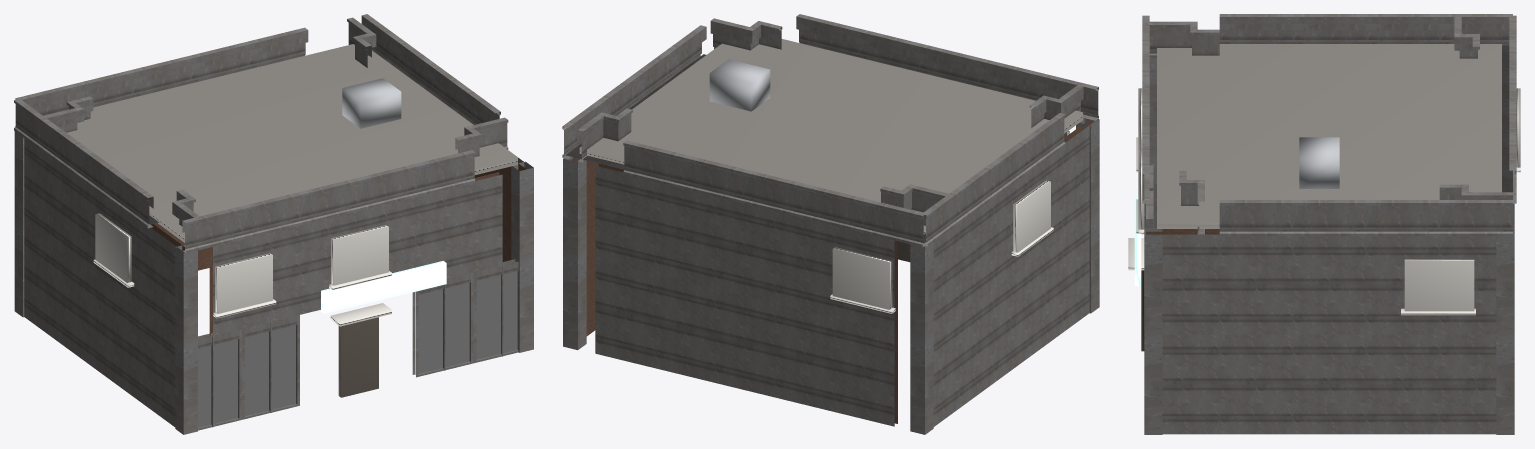
The model's file is b_shop2.gltf.
The picture shows the model from 3 angles, left to right: view 1: azimuth 30°, elevation 25°; view 2: azimuth 150°, elevation 25°; view 3: azimuth 270°, elevation 25°; orthographic projection. The views are drawn at different scales.
Parts seen in each view (by area): view 1: b_shop2; view 2: b_shop2; view 3: b_shop2.
Part boxes in pixels (x1,y1,x2,y2): b_shop2: [14, 14, 533, 434]; b_shop2: [562, 14, 1099, 434]; b_shop2: [1128, 14, 1520, 434].
Bounding box in the file's own units: 12.48 × 7.3 × 10.7.
Materials: 12 (3 with a texture image).
